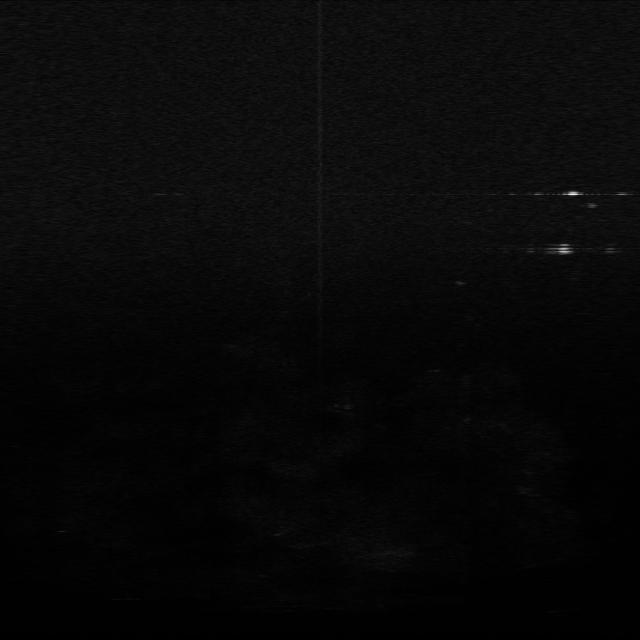rov: (550, 240, 576, 258)
